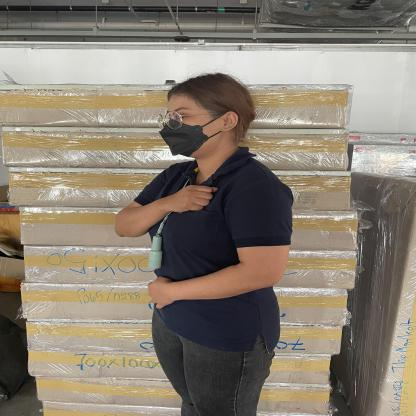Sadness: (106, 168, 235, 245)
